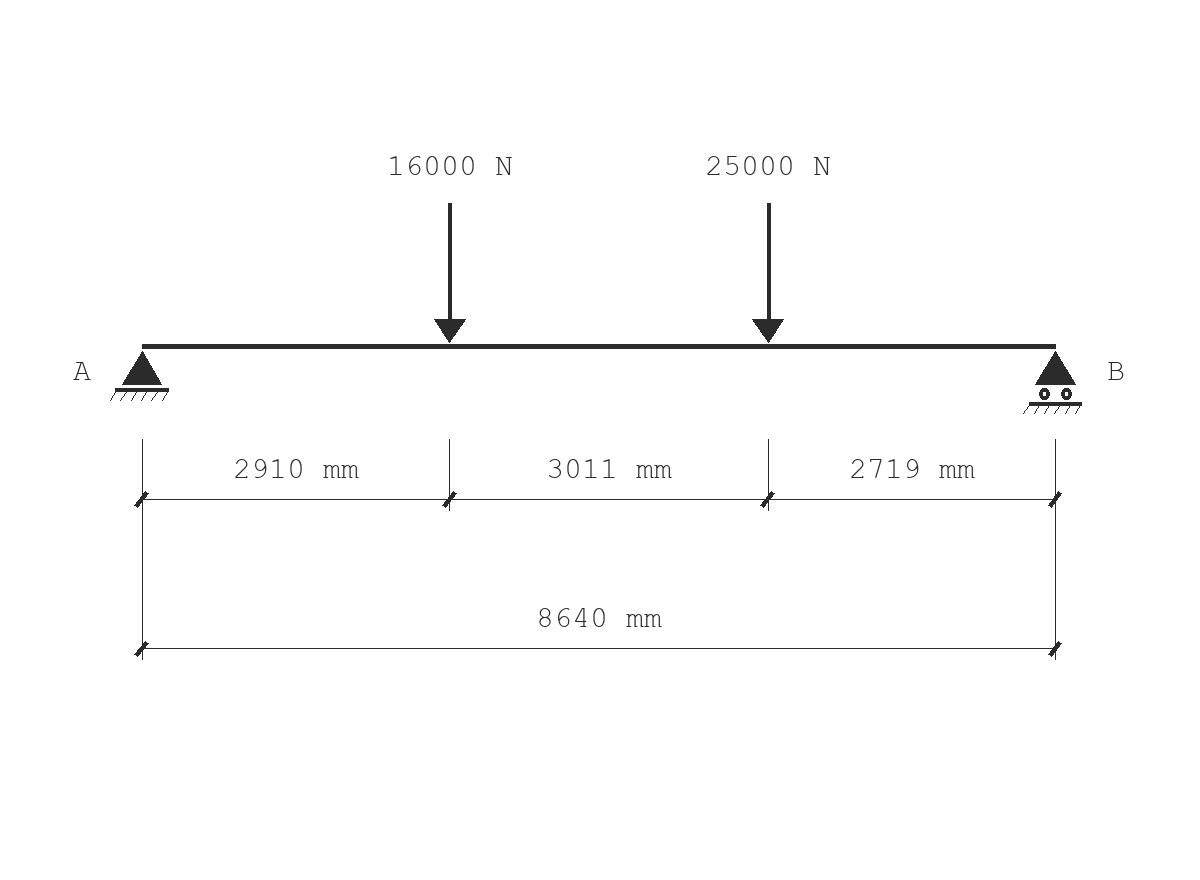pin_support: (110, 351, 169, 401)
point_load: (434, 203, 466, 343), (752, 203, 784, 343)
roller_support: (1023, 351, 1082, 414)
